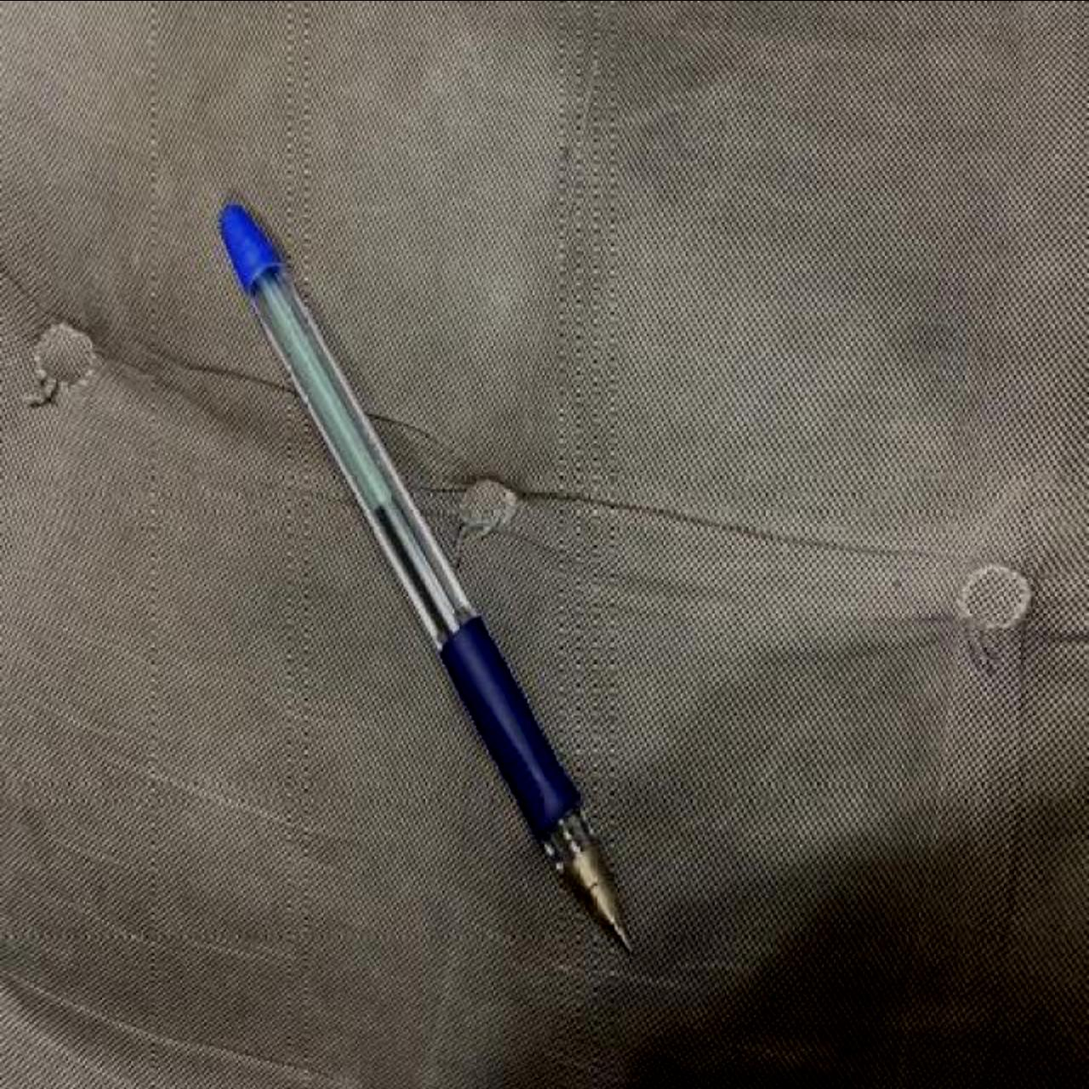pen: (216, 202, 635, 948)
